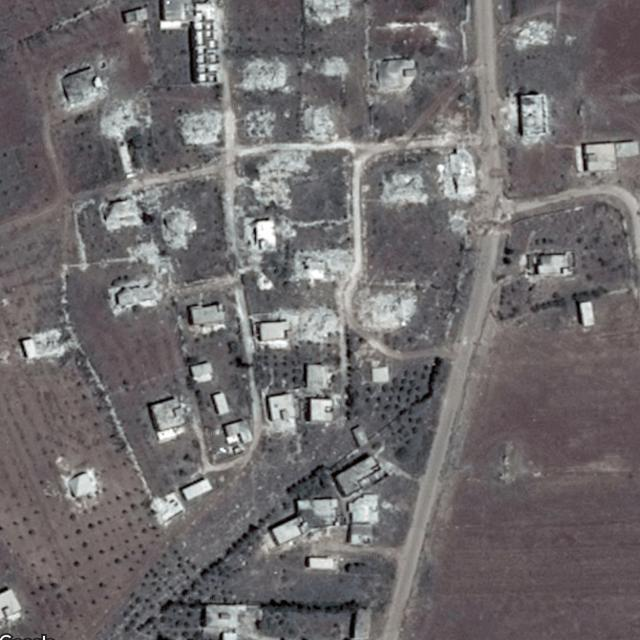damaged_building: (250, 148, 313, 207), (354, 285, 416, 330), (96, 98, 153, 142), (289, 247, 353, 284), (436, 150, 477, 202), (286, 306, 338, 344), (126, 240, 177, 278), (237, 58, 287, 92), (298, 101, 340, 141), (20, 327, 73, 358), (381, 172, 429, 204), (160, 209, 197, 250), (180, 110, 222, 146), (510, 18, 556, 50), (302, 55, 350, 78), (244, 104, 274, 137)
